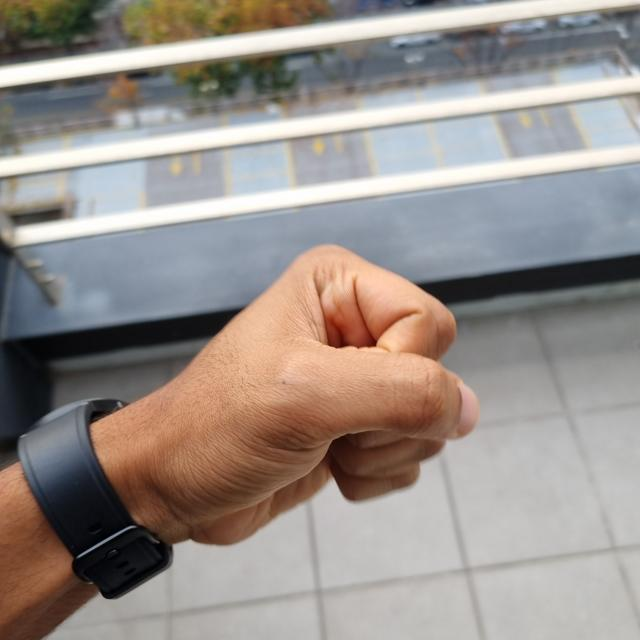Rock: (94, 247, 474, 546)
